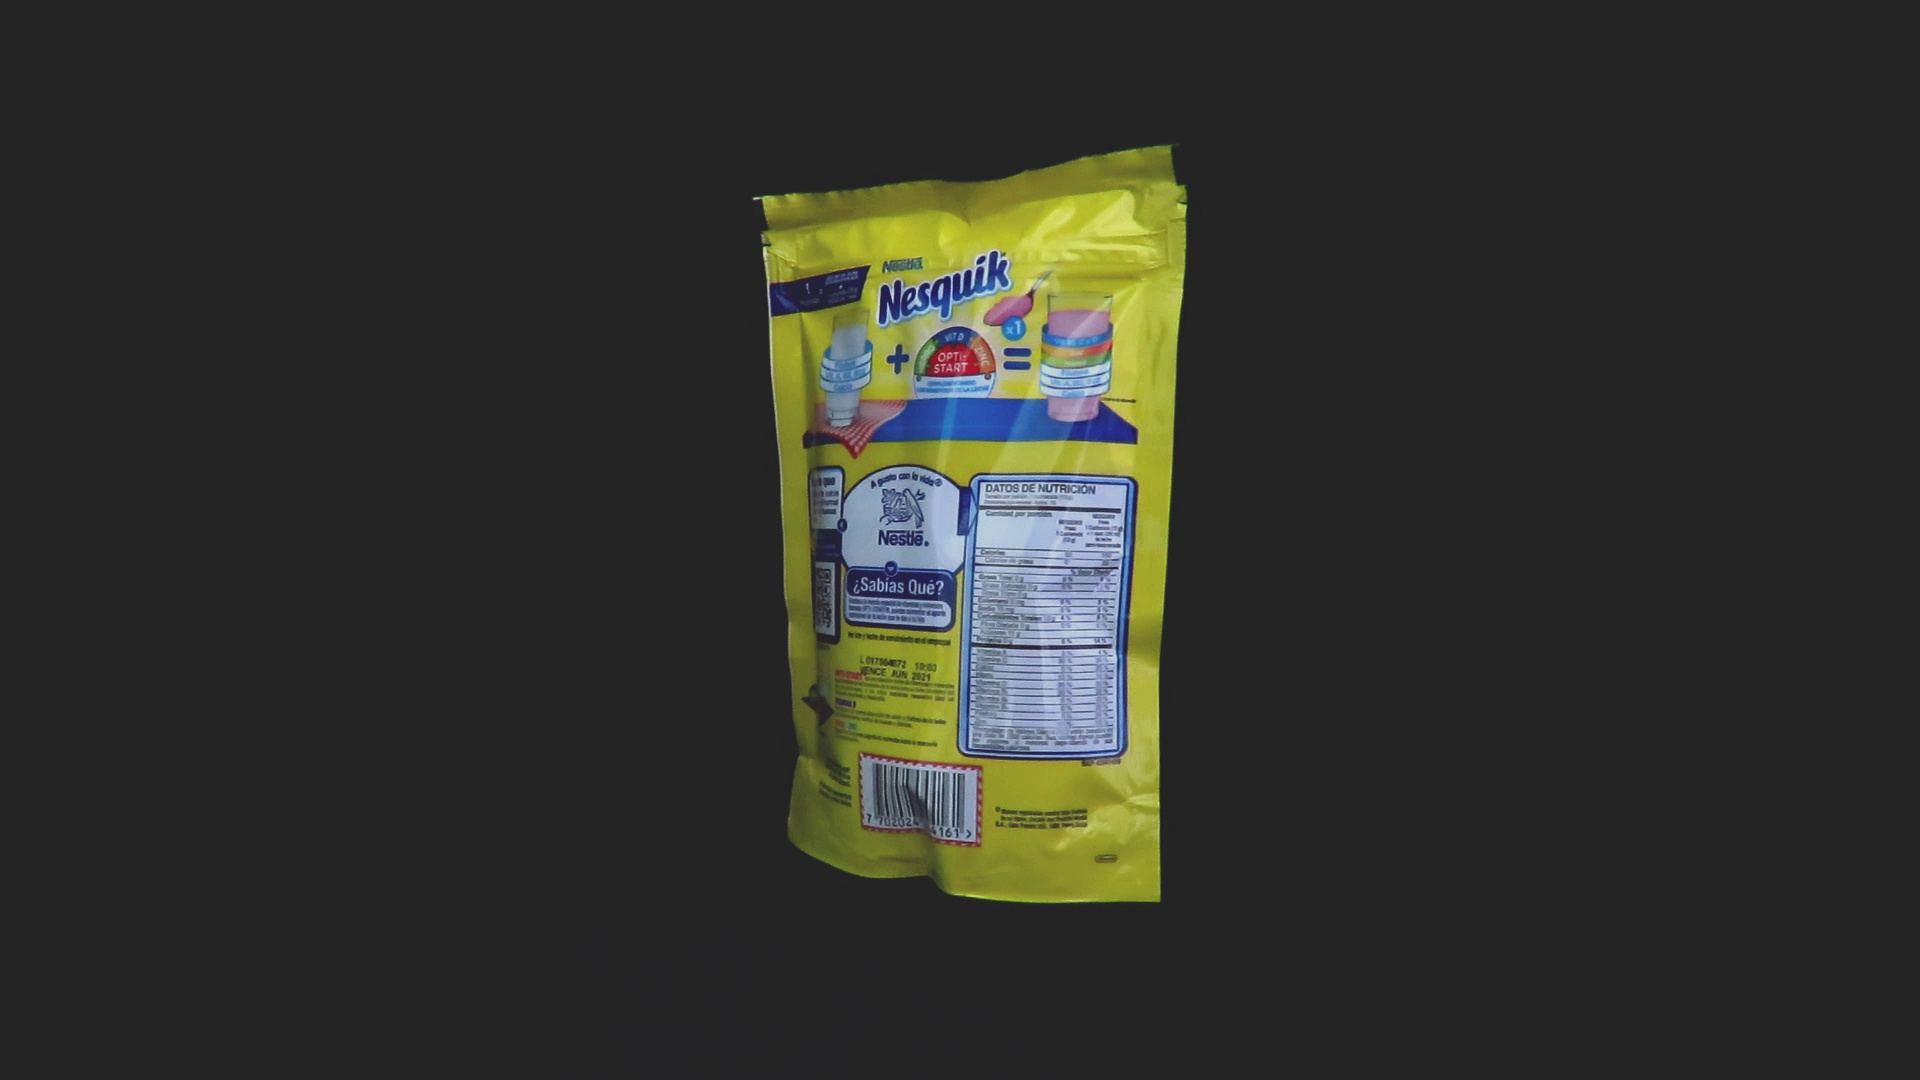COL0170305DYP20000: (748, 138, 1193, 909)
